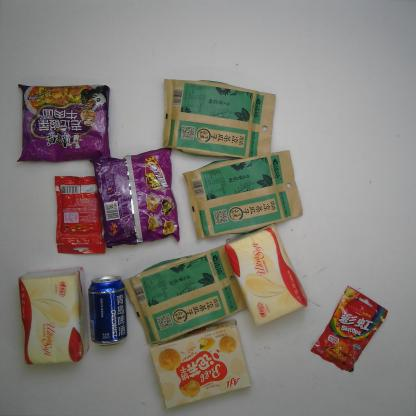Alcohol: (88, 276, 128, 349)
Candy: (310, 286, 388, 374), (51, 173, 108, 257)
Dessert: (151, 321, 252, 409)
Dried Food: (122, 246, 251, 344), (182, 150, 306, 240), (158, 74, 279, 162)
Instant Noodles: (90, 146, 185, 249), (15, 81, 114, 163)
Tissue: (225, 222, 307, 329), (18, 268, 88, 365)
